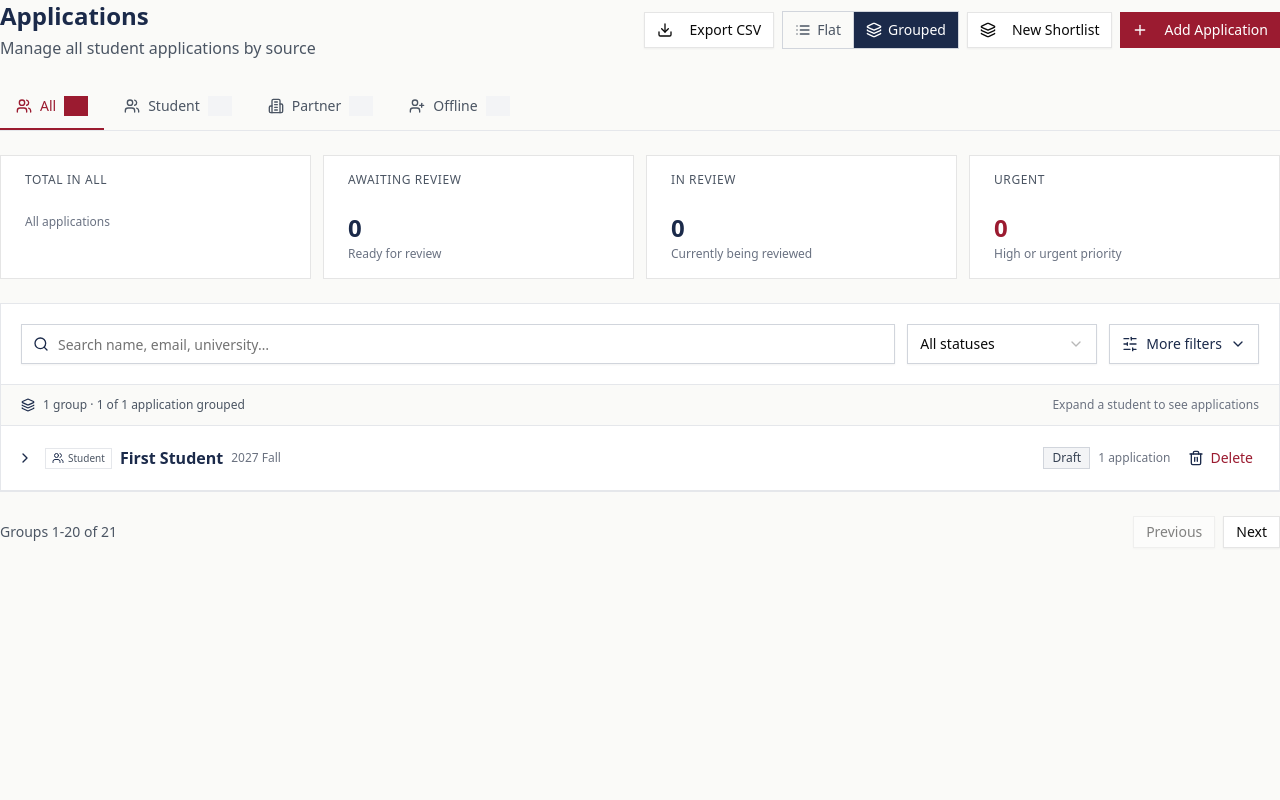
Scenario: admin application delete › returns to the previous valid page after deleting the last group on page two
What coordinates should you click on to do the following:
click the button "Next"
I would click on:
 (1252, 532)
Its box is [1223,516,1279,548].
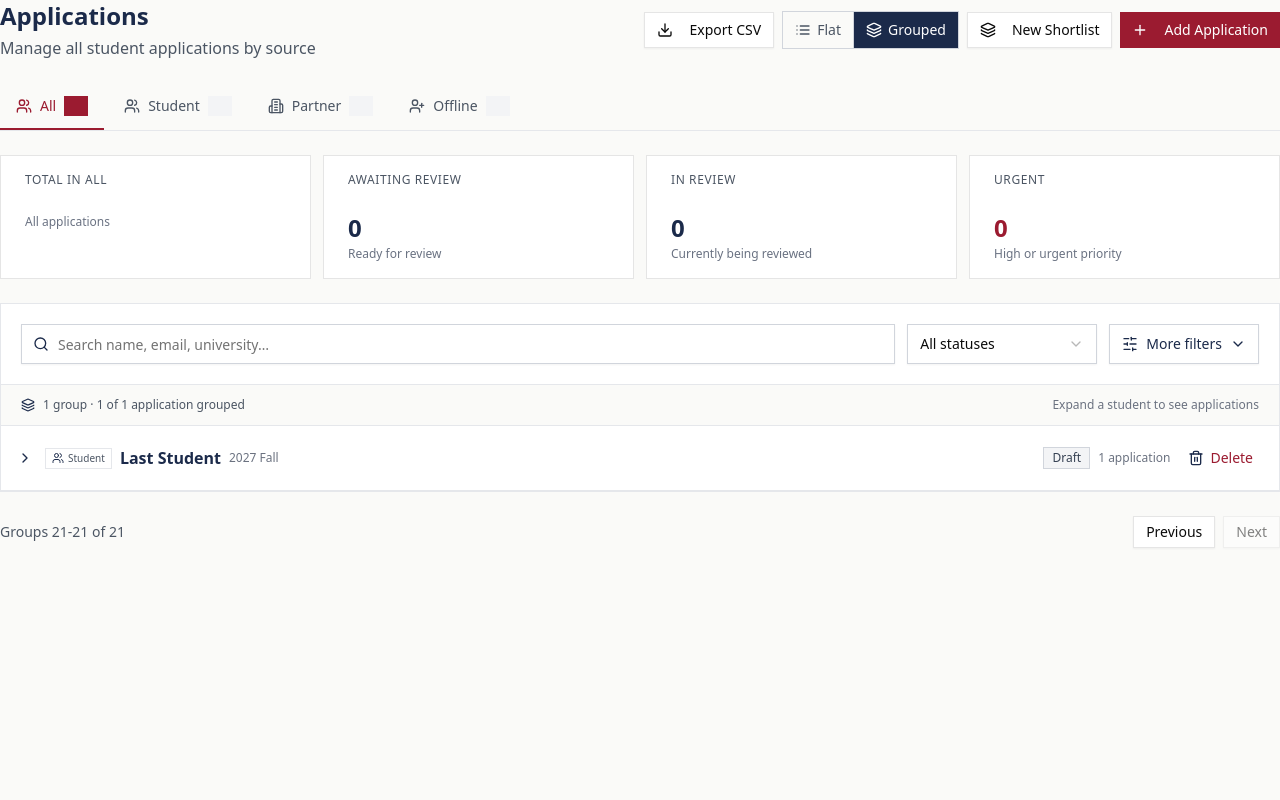
What coordinates should you click on to do the following:
click the button with aria-label "Delete application for Last Student"
I would click on:
 (1221, 458)
Its box is [1178,442,1263,474].
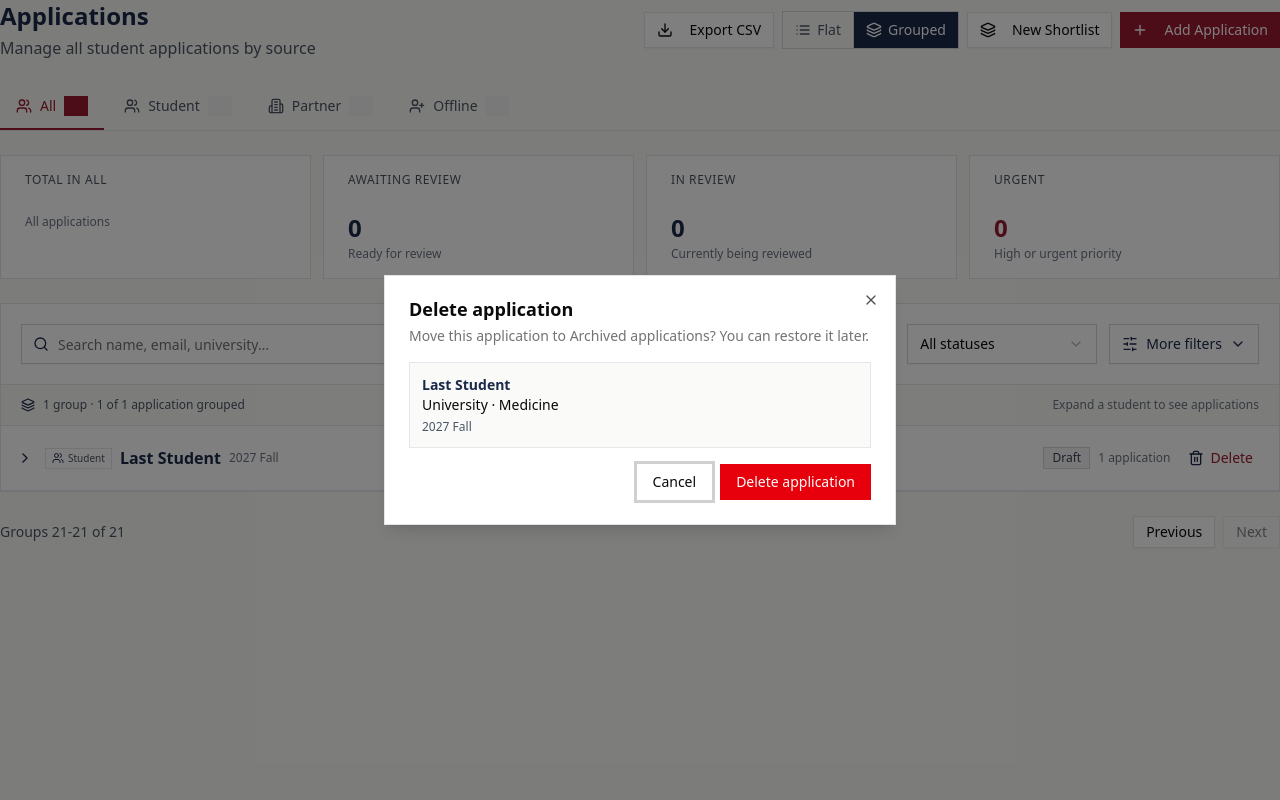
What coordinates should you click on to do the following:
click the button "Delete application"
I would click on:
 (796, 482)
Its box is [720,464,871,500].
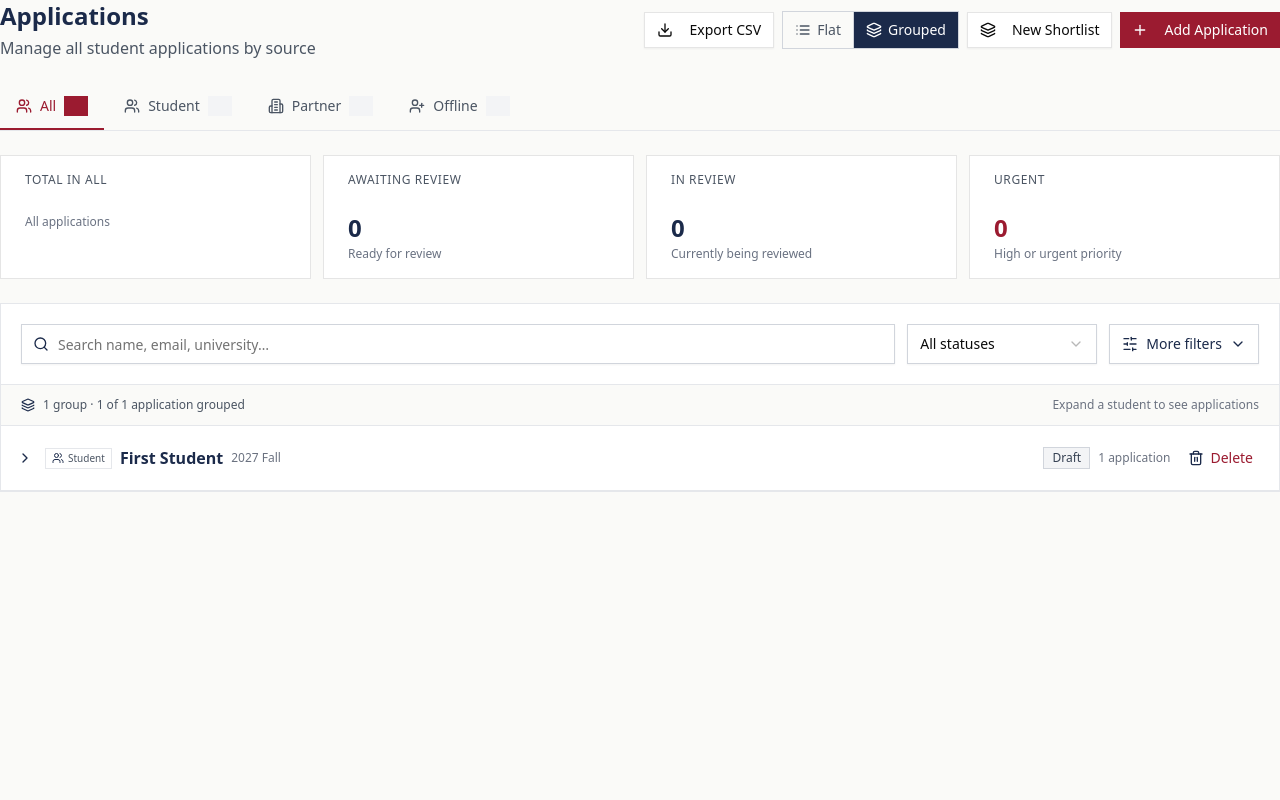
Expected: the dialog is gone
Expected: the button "First Student" is shown, [120,446,223,470]
